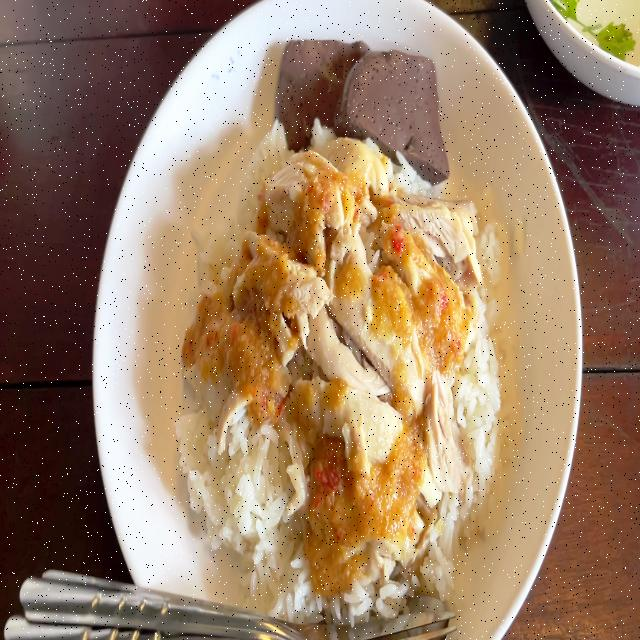boiled_chicken: (188, 147, 471, 571)
boiled_chicken_blood_jelly: (342, 49, 444, 185), (278, 34, 361, 158)
chicken_rice: (163, 34, 511, 626)
